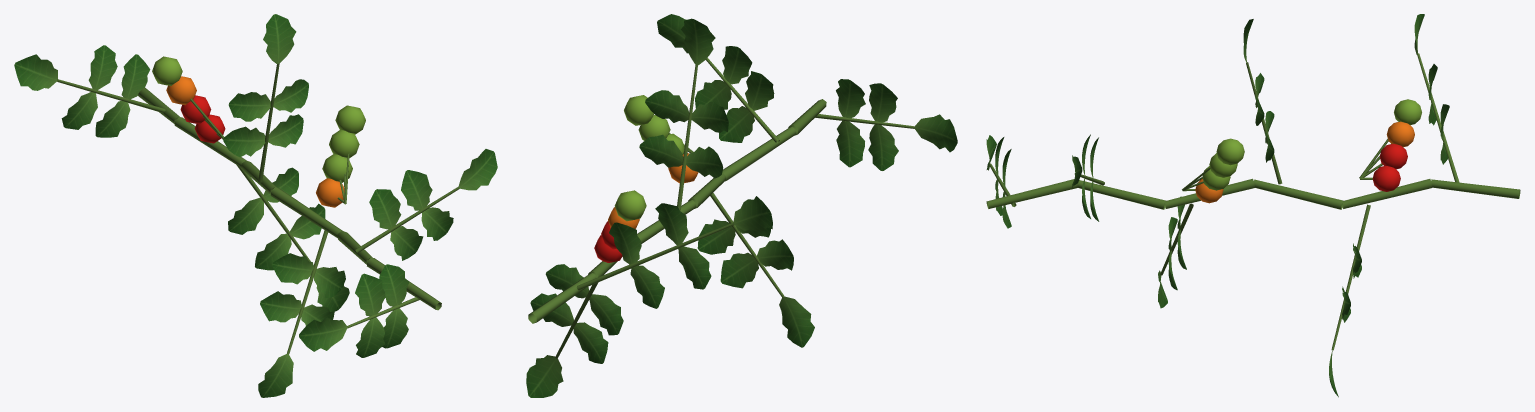
Rendered from tomato.obj.
3 views of the same model, side by side, from view 1: azimuth 30°, elevation 25°; view 2: azimuth 150°, elevation 25°; view 3: azimuth 270°, elevation 25° (orthographic). The views are drawn at different scales.
Parts seen in each view (by area): view 1: tomato; view 2: tomato; view 3: tomato.
Boxes of the visible parts, left/top/right/bottom form: tomato: left=14, top=14, right=497, bottom=397; tomato: left=526, top=14, right=957, bottom=397; tomato: left=986, top=14, right=1520, bottom=397.
Size of the model in its own units: 0.3557 by 0.4098 by 0.6023.
5 materials, 1 textured.
